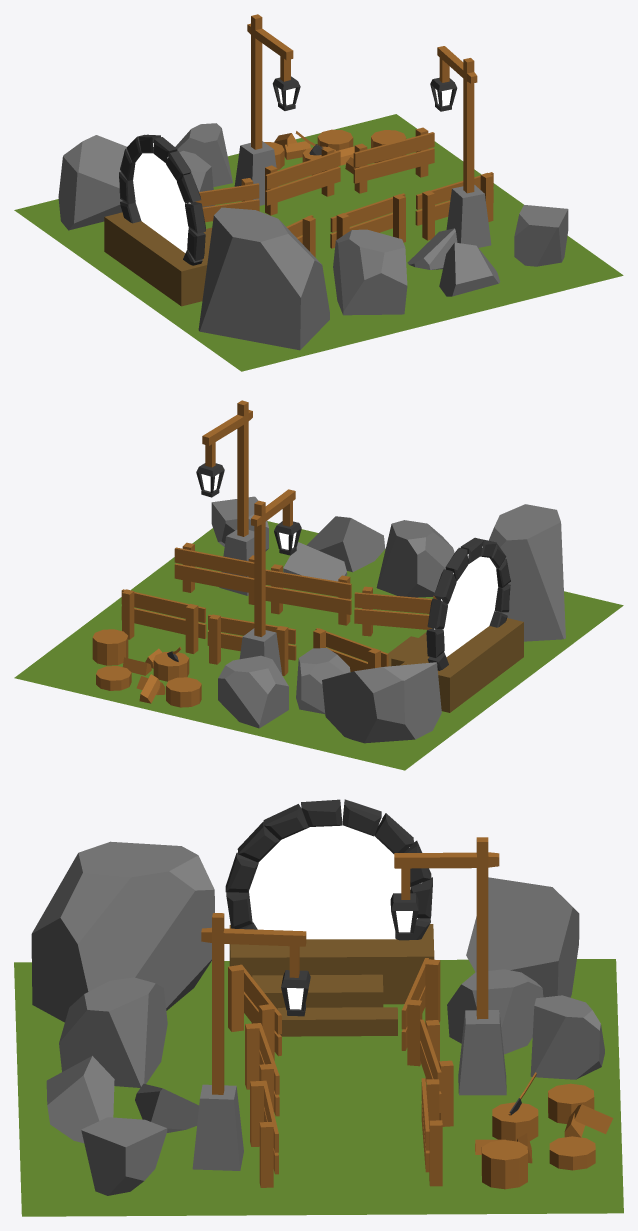
The model's file is threejs1.glb.
3 renders of one model, top to bottom at view 1: azimuth 30°, elevation 25°; view 2: azimuth 150°, elevation 25°; view 3: azimuth 270°, elevation 25°, orthographic. The views are drawn at different scales.
Parts seen in each view (by area): view 1: Plane, Cube.018, Cube.019, Cube.029, Cube.017, portalLight, Cube.005, Cube.023, Cube.001, Cube.007, Cube.020, Cube.004 (+14 smaller); view 2: Plane, Cube.017, Cube.018, Cube.029, Cube.019, Cube.024, portalLight, Cube.004, Cube.005, Cube.003, Cube.013, Cube.020 (+16 smaller); view 3: Plane, Cube.018, portalLight, Cube.017, Cube.019, Cube.029, Cube.024, Cube.023, Cube.025, Cube.009, Cube.007, Cube.020 (+26 smaller).
Part boxes in pixels (bbox=[...]): Plane: bbox=[14, 114, 623, 371]; Cube.018: bbox=[198, 207, 329, 350]; Cube.019: bbox=[333, 229, 407, 315]; Cube.029: bbox=[104, 212, 209, 306]; Cube.017: bbox=[58, 135, 126, 230]; portalLight: bbox=[133, 143, 190, 252]; Cube.005: bbox=[353, 127, 434, 193]; Cube.023: bbox=[514, 205, 568, 266]; Cube.001: bbox=[265, 146, 340, 215]; Cube.007: bbox=[247, 14, 293, 149]; Cube.020: bbox=[439, 242, 500, 296]; Cube.004: bbox=[330, 193, 405, 248]; Plane: bbox=[14, 521, 623, 770]; Cube.017: bbox=[322, 662, 441, 743]; Cube.018: bbox=[489, 504, 565, 641]; Cube.029: bbox=[400, 618, 523, 712]; Cube.019: bbox=[376, 520, 454, 597]; Cube.024: bbox=[218, 655, 288, 728]; portalLight: bbox=[434, 546, 498, 656]; Cube.004: bbox=[265, 564, 351, 625]; Cube.005: bbox=[121, 589, 206, 653]; Cube.003: bbox=[174, 542, 254, 604]; Cube.013: bbox=[354, 586, 436, 636]; Cube.020: bbox=[306, 516, 385, 572]; Plane: bbox=[14, 959, 623, 1216]; Cube.018: bbox=[31, 841, 214, 1022]; portalLight: bbox=[249, 806, 421, 939]; Cube.017: bbox=[466, 877, 579, 997]; Cube.019: bbox=[59, 977, 167, 1087]; Cube.029: bbox=[229, 924, 434, 1004]; Cube.024: bbox=[530, 995, 604, 1079]; Cube.023: bbox=[81, 1117, 167, 1195]; Cube.025: bbox=[447, 969, 543, 1054]; Cube.009: bbox=[201, 913, 306, 1094]; Cube.007: bbox=[394, 837, 499, 1019]; Cube.020: bbox=[46, 1056, 114, 1143].
Bounding box in the file's own units: 4.11 × 1.84 × 4.11.
